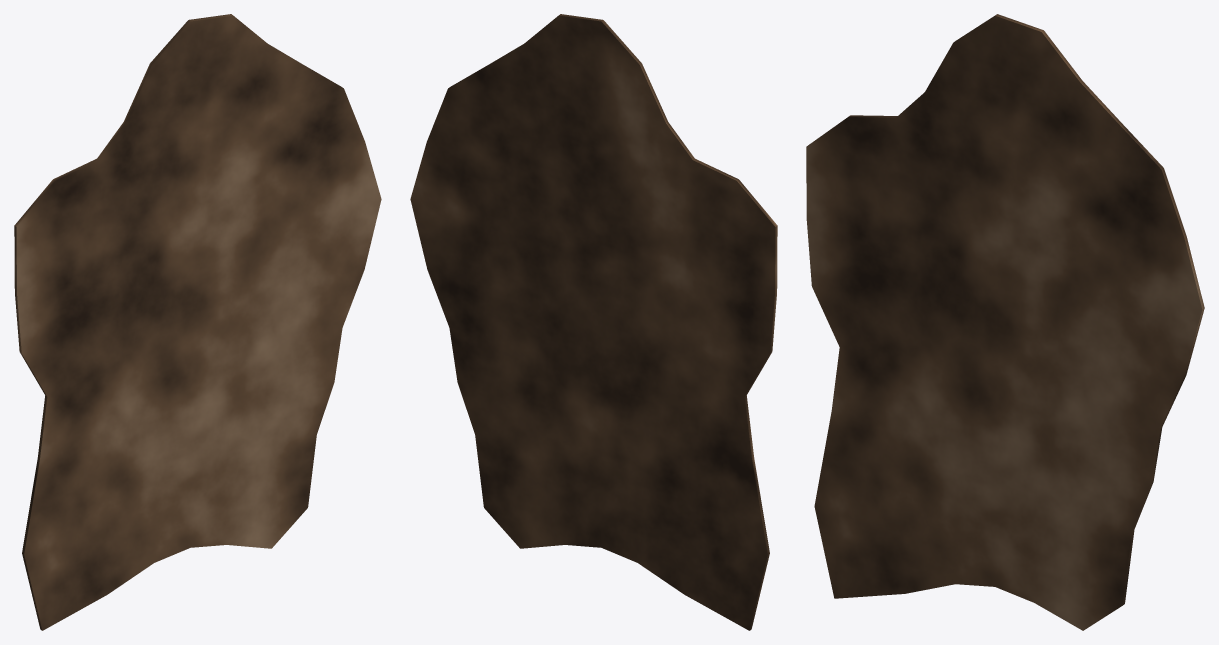
The model's file is SM_Pelt.glb.
The picture shows the model from 3 angles, left to right: view 1: azimuth 30°, elevation 25°; view 2: azimuth 150°, elevation 25°; view 3: azimuth 330°, elevation 25°; orthographic projection. The views are drawn at different scales.
Visible parts, largest first — view 1: SM_Pelt; view 2: SM_Pelt; view 3: SM_Pelt.
Part boxes in pixels (bbox=[...]): SM_Pelt: bbox=[14, 14, 381, 630]; SM_Pelt: bbox=[410, 14, 777, 630]; SM_Pelt: bbox=[806, 14, 1204, 630].
Size of the model in its own units: 1.17 by 1.75 by 0.012.
Materials: 1 (1 with a texture image).
